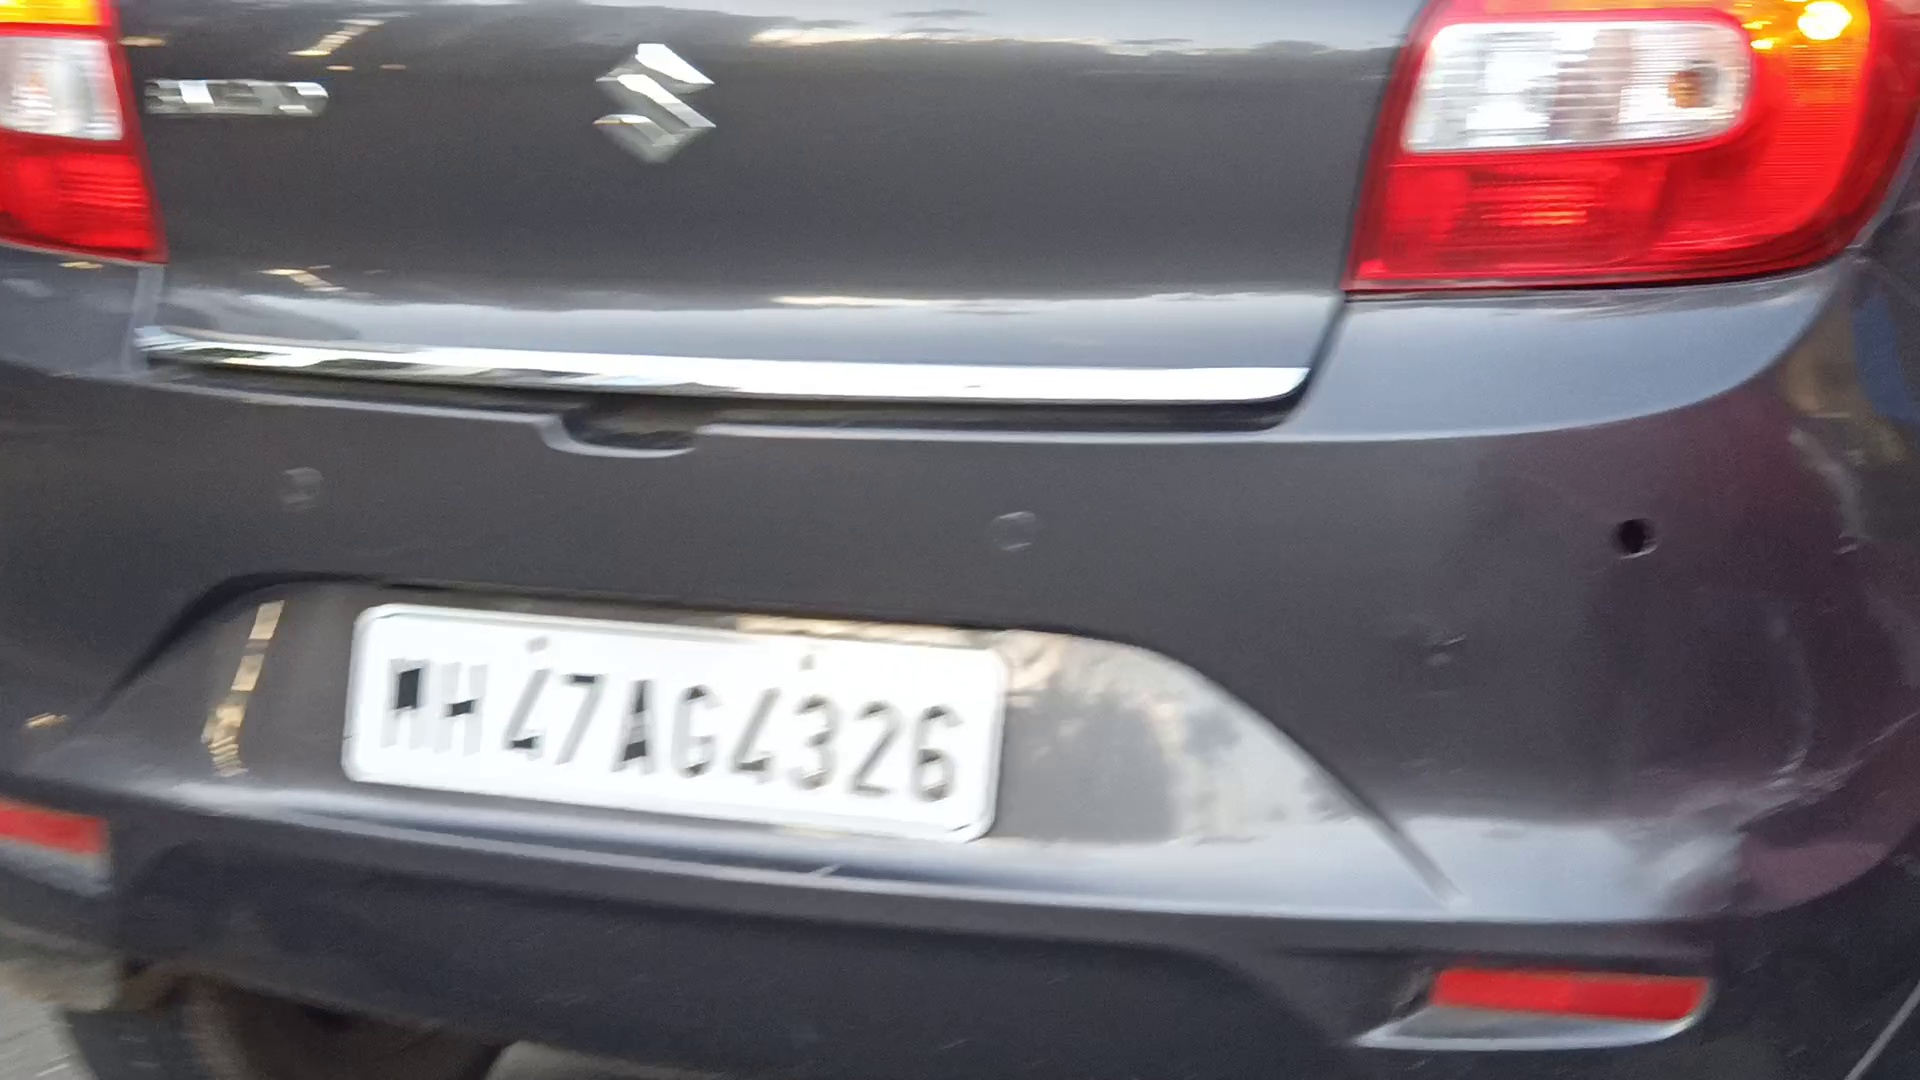MH47AG4326: (346, 606, 1002, 838)
